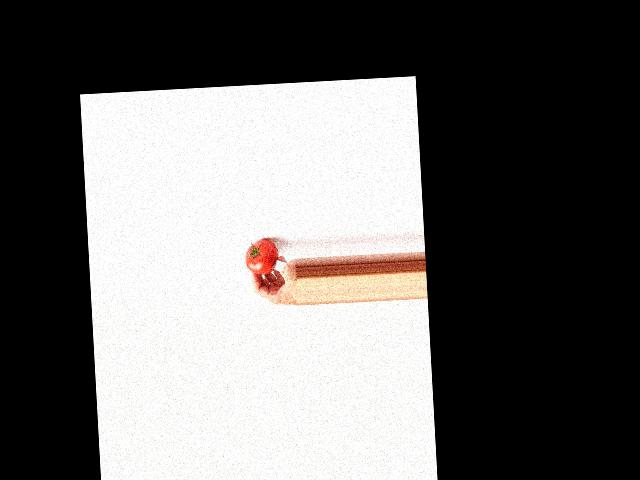tomato: (244, 238, 279, 275)
